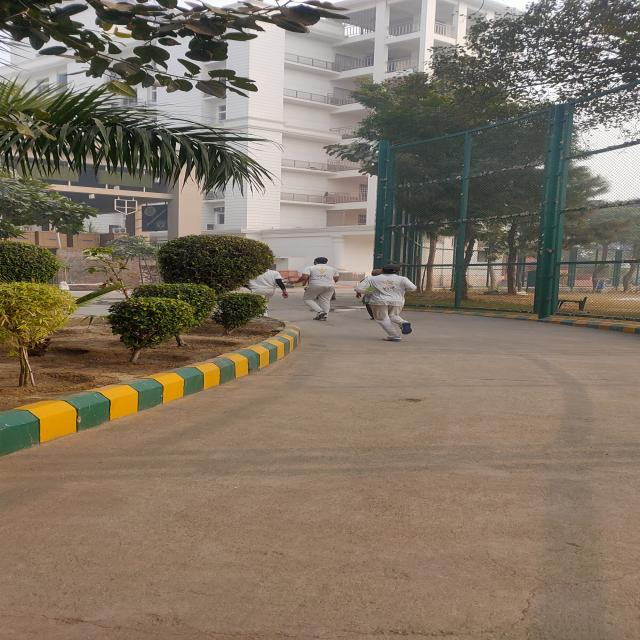unsafe: (355, 263, 417, 341), (292, 256, 338, 322)
